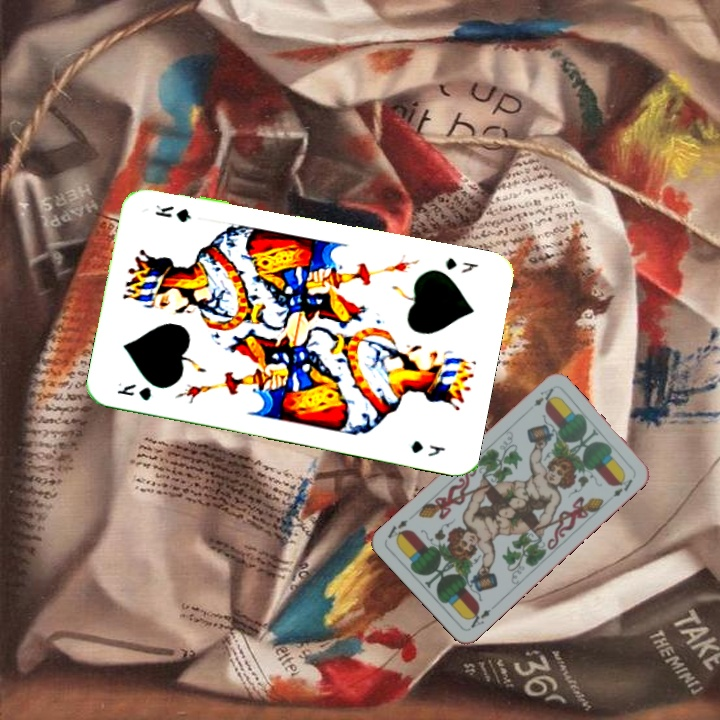EA: (464, 604, 494, 631), (529, 384, 556, 409)
GK: (114, 380, 154, 403), (441, 253, 481, 276)
